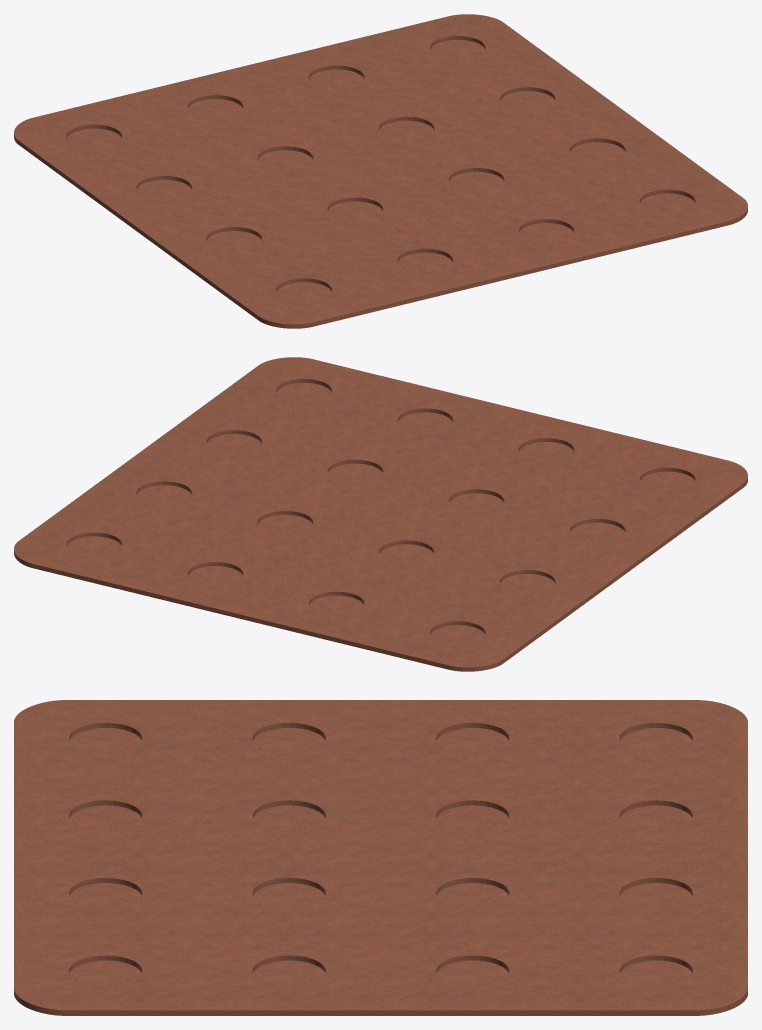
Rendered from gameBoard2.glb.
3 renders of one model, top to bottom at view 1: azimuth 30°, elevation 25°; view 2: azimuth 150°, elevation 25°; view 3: azimuth 270°, elevation 25°, orthographic. The views are drawn at different scales.
Visible parts, largest first — view 1: gameBoard2; view 2: gameBoard2; view 3: gameBoard2.
Part boxes in pixels (x1=…): gameBoard2: x1=14, y1=14, x2=747, y2=328; gameBoard2: x1=14, y1=357, x2=747, y2=671; gameBoard2: x1=14, y1=700, x2=747, y2=1015.
Bounding box in the file's own units: 20 × 0.2 × 20.
Materials: 1 (1 with a texture image).
